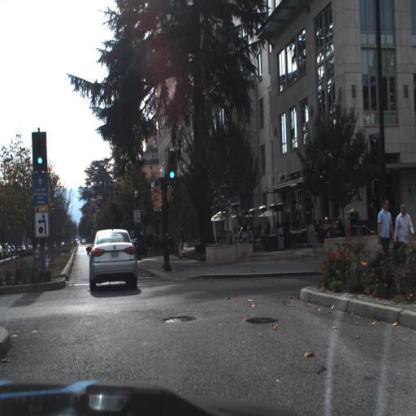car: (86, 225, 139, 293), (133, 232, 162, 259)
pedestrian: (395, 202, 416, 262), (379, 198, 395, 259), (284, 215, 289, 229)
trafficLight: (32, 131, 47, 171)
trafficLight-Green: (168, 148, 180, 182)
